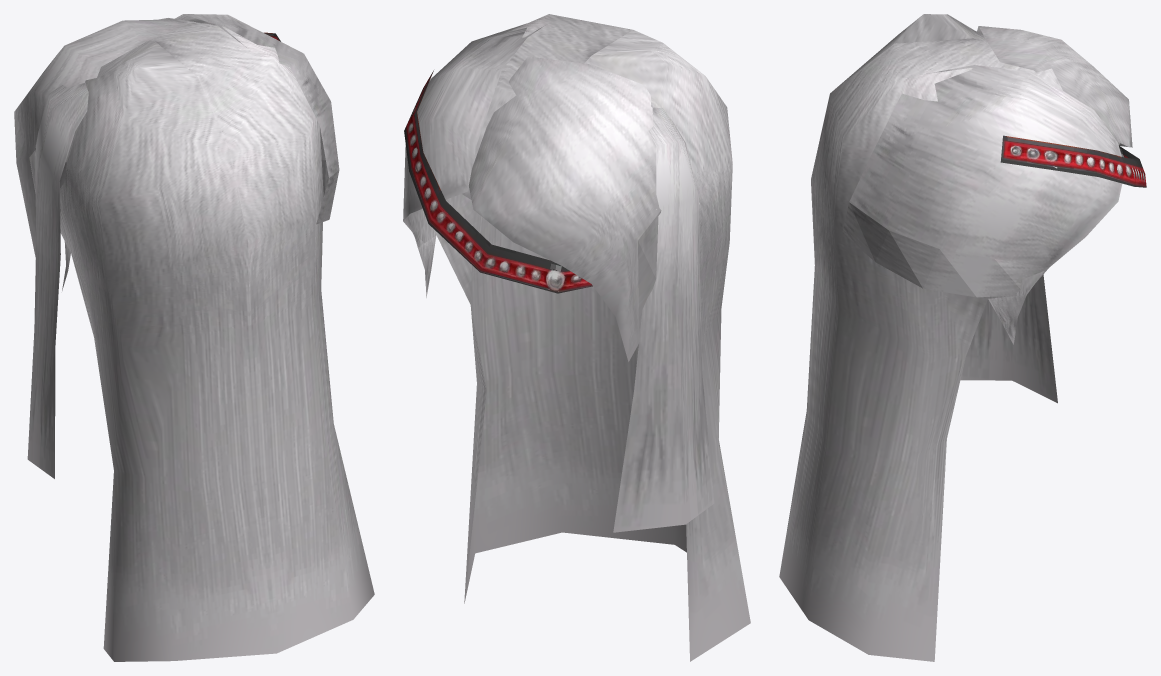
Rendered from Mage Female Hair 27.glb.
3 views of the same model, side by side, from view 1: azimuth 30°, elevation 25°; view 2: azimuth 150°, elevation 25°; view 3: azimuth 270°, elevation 25° (orthographic). The views are drawn at different scales.
Parts seen in each view (by area): view 1: 法师女头发27_0; view 2: 法师女头发27_0, 法师女头发27_1; view 3: 法师女头发27_0, 法师女头发27_1.
Part boxes in pixels (x1,y1,x2,y2): 法师女头发27_0: [14, 14, 374, 661]; 法师女头发27_0: [403, 14, 750, 661]; 法师女头发27_1: [404, 70, 592, 293]; 法师女头发27_0: [779, 14, 1132, 661]; 法师女头发27_1: [1000, 135, 1146, 187].
Size of the model in its own units: 0.1699 by 0.3427 by 0.2027.
2 materials, 2 textured.
